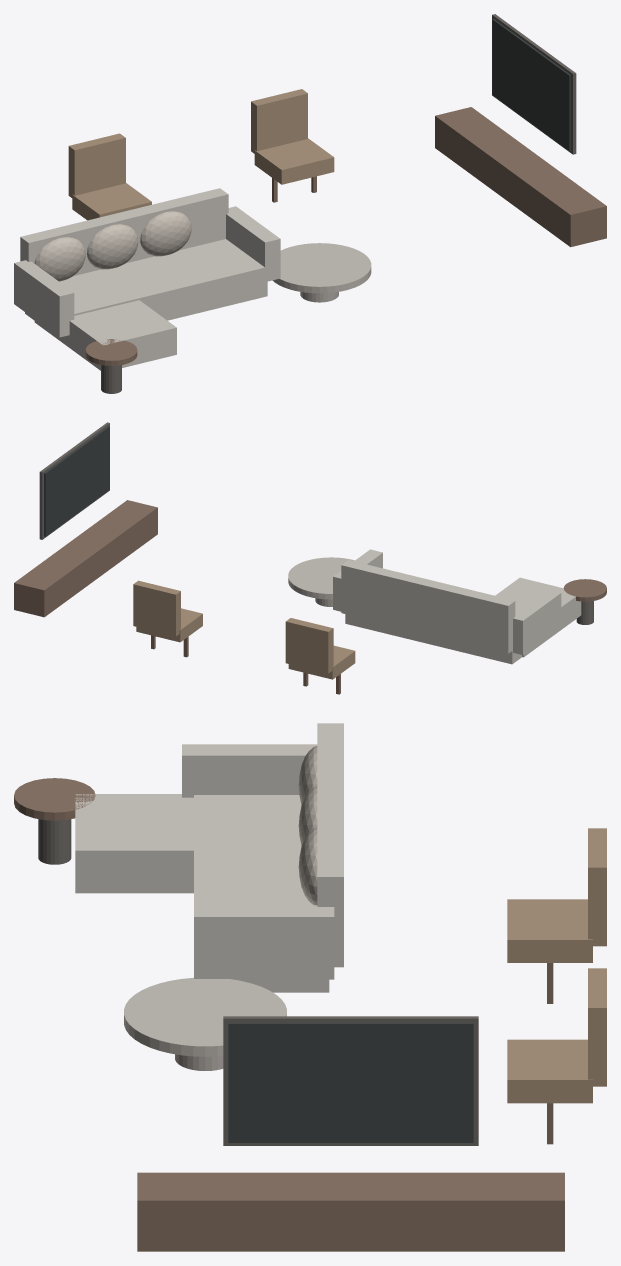
The model's file is 02_furniture.glb.
3 views of the same model, one above another, from view 1: azimuth 30°, elevation 25°; view 2: azimuth 150°, elevation 25°; view 3: azimuth 270°, elevation 25° (orthographic). The views are drawn at different scales.
Visible parts, largest first — view 1: tv_low_cabinet, sofa_main_base, tv_screen_front, sofa_main_back, sofa_chaise_base, coffee_table_top, sofa_left_arm, chair_0_back, chair_1_back, chair_1_seat, sofa_right_arm, chair_0_seat (+6 smaller); view 2: sofa_main_back, tv_low_cabinet, tv_screen_front, chair_0_back, chair_1_back, sofa_left_arm, sofa_main_base, coffee_table_top, sofa_chaise_base, chair_0_seat, tv_screen_trim, chair_1_seat (+2 smaller); view 3: tv_low_cabinet, tv_display_black_screen, sofa_main_base, sofa_chaise_base, sofa_right_arm, coffee_table_top, sofa_left_arm, sofa_main_back, chair_1_seat, chair_0_seat, tv_screen_trim, side_table_top (+6 smaller).
Boxes of the visible parts, box(x1,y1,x2,y2) form: tv_low_cabinet: box(435, 107, 606, 247); sofa_main_base: box(25, 239, 267, 320); tv_screen_front: box(492, 19, 570, 150); sofa_main_back: box(20, 188, 228, 276); sofa_chaise_base: box(34, 300, 176, 370); coffee_table_top: box(272, 243, 371, 293); sofa_left_arm: box(14, 260, 74, 337); chair_0_back: box(68, 133, 125, 197); chair_1_back: box(251, 89, 307, 153); chair_1_seat: box(254, 138, 334, 184); sofa_right_arm: box(226, 206, 280, 281); chair_0_seat: box(72, 183, 151, 220); sofa_main_back: box(341, 560, 515, 653); tv_low_cabinet: box(14, 500, 157, 617); tv_screen_front: box(44, 426, 109, 536); chair_0_back: box(285, 618, 333, 673); chair_1_back: box(133, 580, 180, 636); sofa_left_arm: box(513, 590, 561, 654); sofa_main_base: box(345, 605, 523, 664); coffee_table_top: box(288, 557, 354, 599); sofa_chaise_base: box(495, 577, 581, 657); chair_0_seat: box(288, 645, 355, 679); tv_screen_trim: box(39, 422, 109, 539); chair_1_seat: box(136, 608, 202, 642); tv_low_cabinet: box(137, 1172, 564, 1251); tv_display_black_screen: box(228, 1023, 473, 1142); sofa_main_base: box(194, 795, 329, 992); sofa_chaise_base: box(75, 794, 193, 893); sofa_right_arm: box(194, 905, 334, 979); coffee_table_top: box(124, 977, 286, 1056); sofa_left_arm: box(182, 744, 317, 797); sofa_main_back: box(317, 723, 343, 967); chair_1_seat: box(507, 1039, 592, 1103); chair_0_seat: box(507, 899, 592, 962); tv_screen_trim: box(223, 1016, 478, 1145); side_table_top: box(14, 778, 95, 820).
Bounding box in the file's own units: 7.76 × 2.12 × 4.64.
